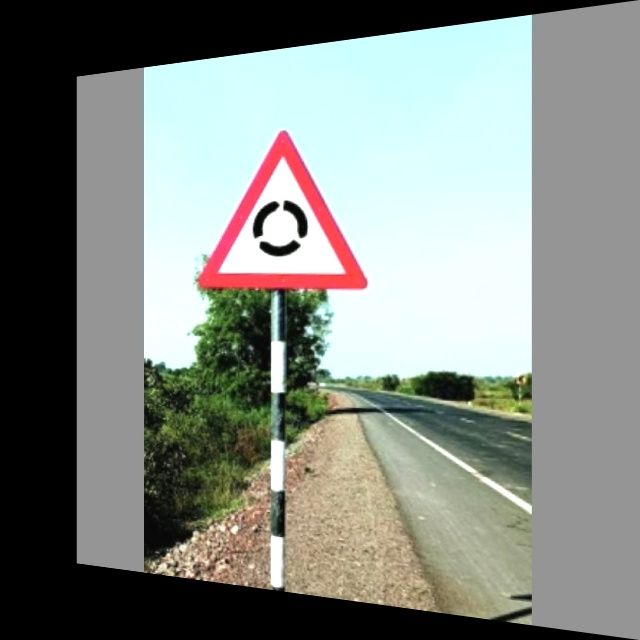Round_About: (193, 118, 379, 295)
